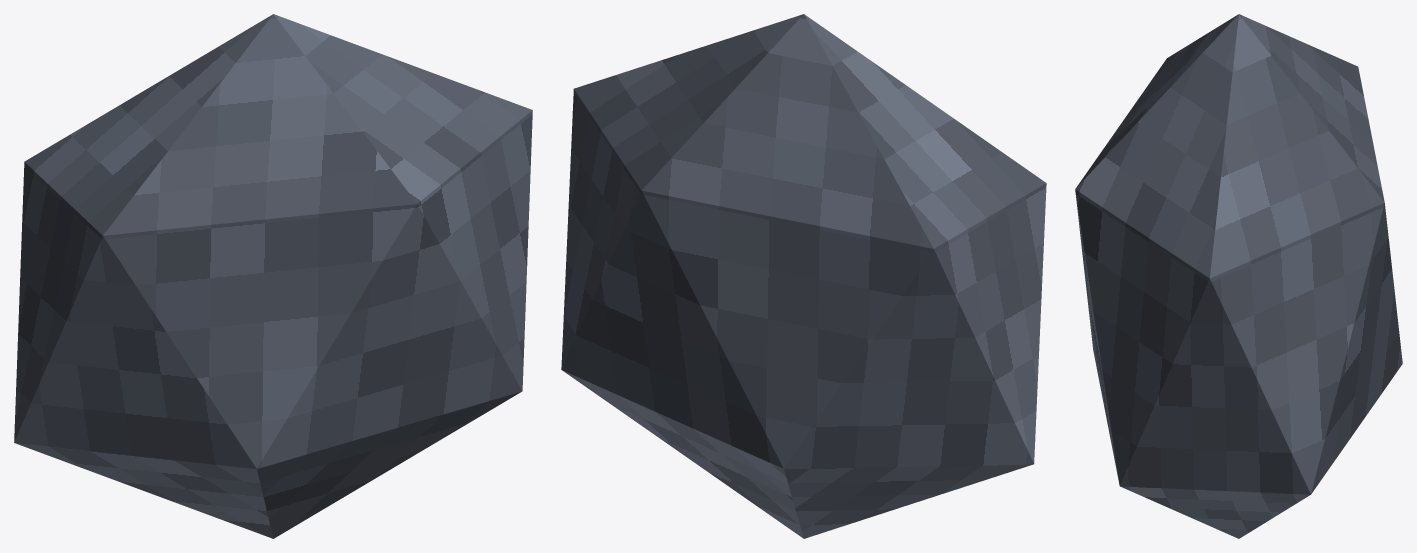
The model's file is rock_54.glb.
3 views of the same model, side by side, from view 1: azimuth 30°, elevation 25°; view 2: azimuth 150°, elevation 25°; view 3: azimuth 270°, elevation 25° (orthographic).
Parts seen in each view (by area): view 1: WeatheredStone; view 2: WeatheredStone; view 3: WeatheredStone.
Boxes of the visible parts, box(x1,y1,x2,y2) form: WeatheredStone: box(14, 14, 532, 538); WeatheredStone: box(561, 14, 1046, 538); WeatheredStone: box(1075, 14, 1402, 538).
Bounding box in the file's own units: 2.85 × 2.92 × 1.65.
1 material, 1 textured.
